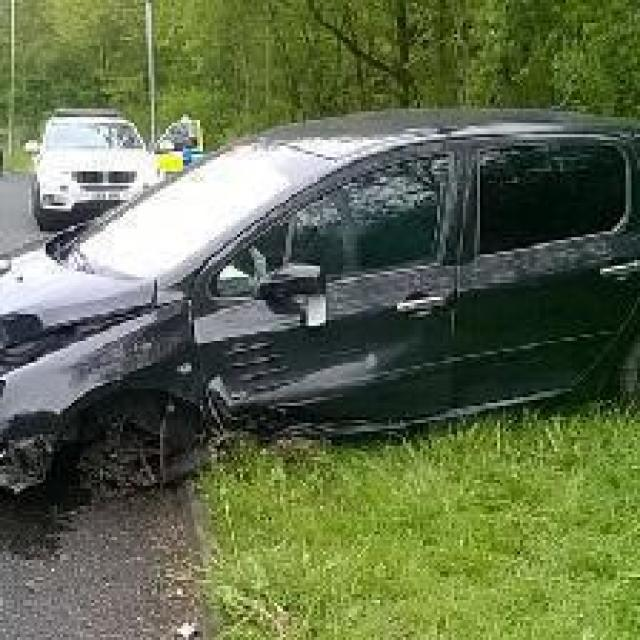damaged: (2, 257, 394, 523)
